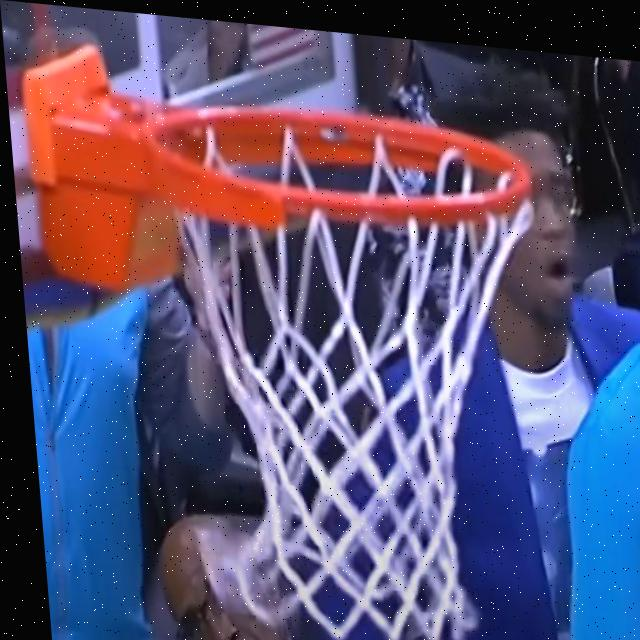hoop: (88, 73, 583, 640)
